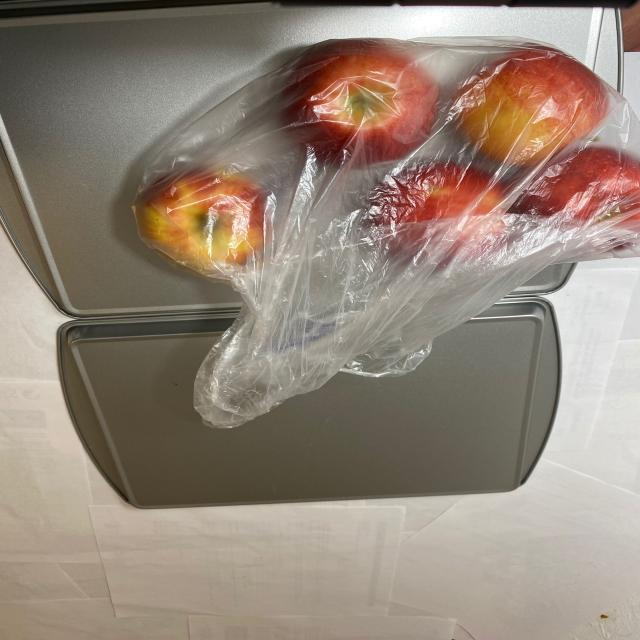apple: (127, 34, 640, 324)
